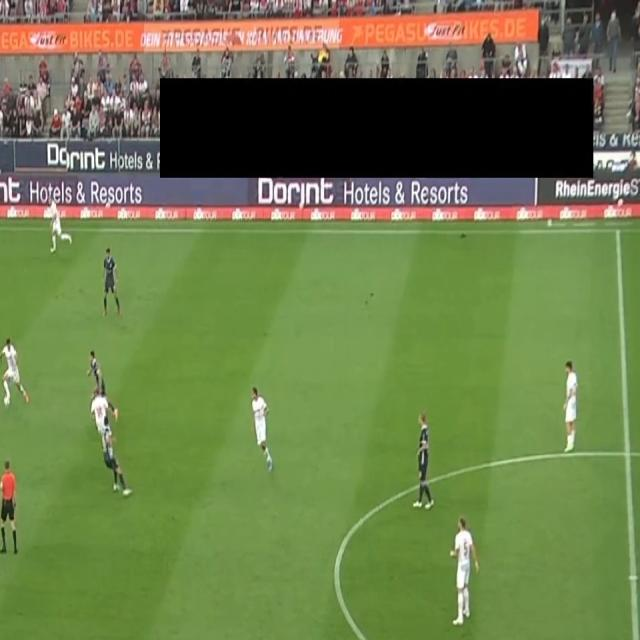ball: (3, 393, 11, 408)
